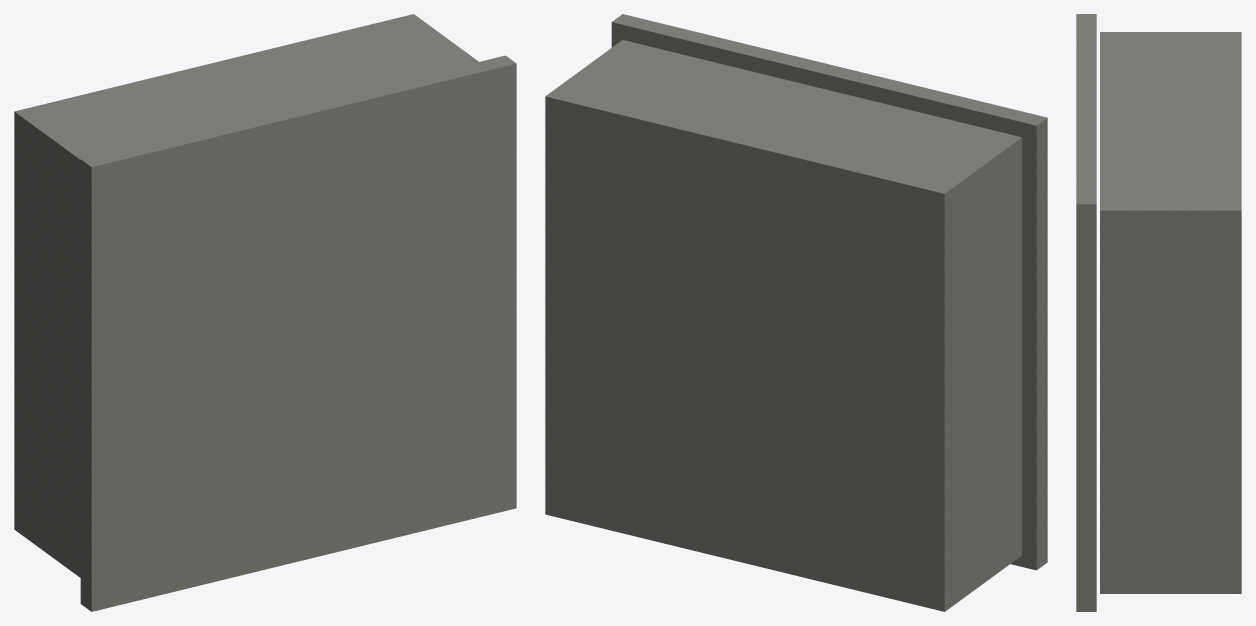
3 renders of one model, left to right at view 1: azimuth 30°, elevation 25°; view 2: azimuth 150°, elevation 25°; view 3: azimuth 270°, elevation 25°, orthographic. The views are drawn at different scales.
Parts seen in each view (by area): view 1: kit_nuclear_pwr_production_001; view 2: kit_nuclear_pwr_production_001; view 3: kit_nuclear_pwr_production_001.
Part boxes in pixels (bbox=[...]): kit_nuclear_pwr_production_001: bbox=[14, 14, 516, 611]; kit_nuclear_pwr_production_001: bbox=[545, 14, 1047, 611]; kit_nuclear_pwr_production_001: bbox=[1076, 14, 1241, 611].
Size of the model in its own units: 12 by 12 by 4.41.
Materials: 1 (1 with a texture image).
